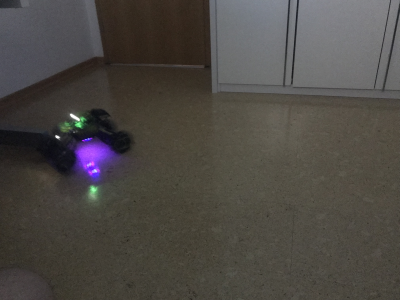remote control car: (41, 100, 134, 175)
